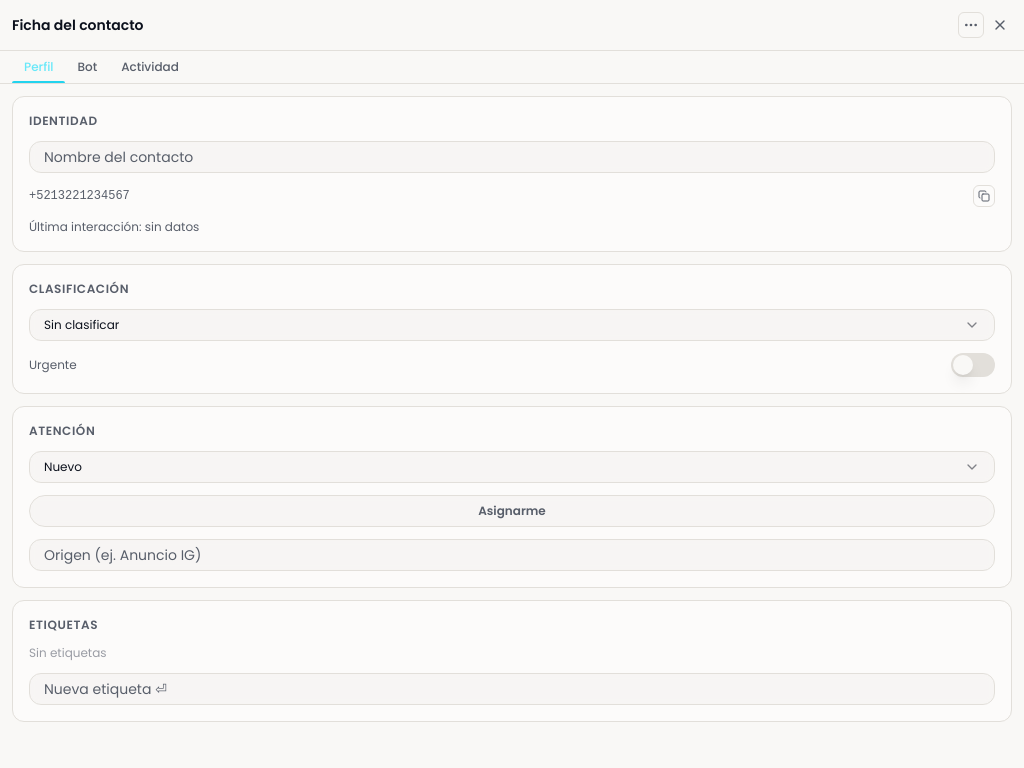
Scenario: ContactPanel — modo revisor (WO-2026-00181) › rol restringido: sin «Guardar contacto», sin ticket y sin nota rápida; la ficha sigue legible
The width and height of the screenshot is (1024, 768).
Click the tab "Actividad".
click(150, 67)  # box x1=109 y1=51 x2=191 y2=83
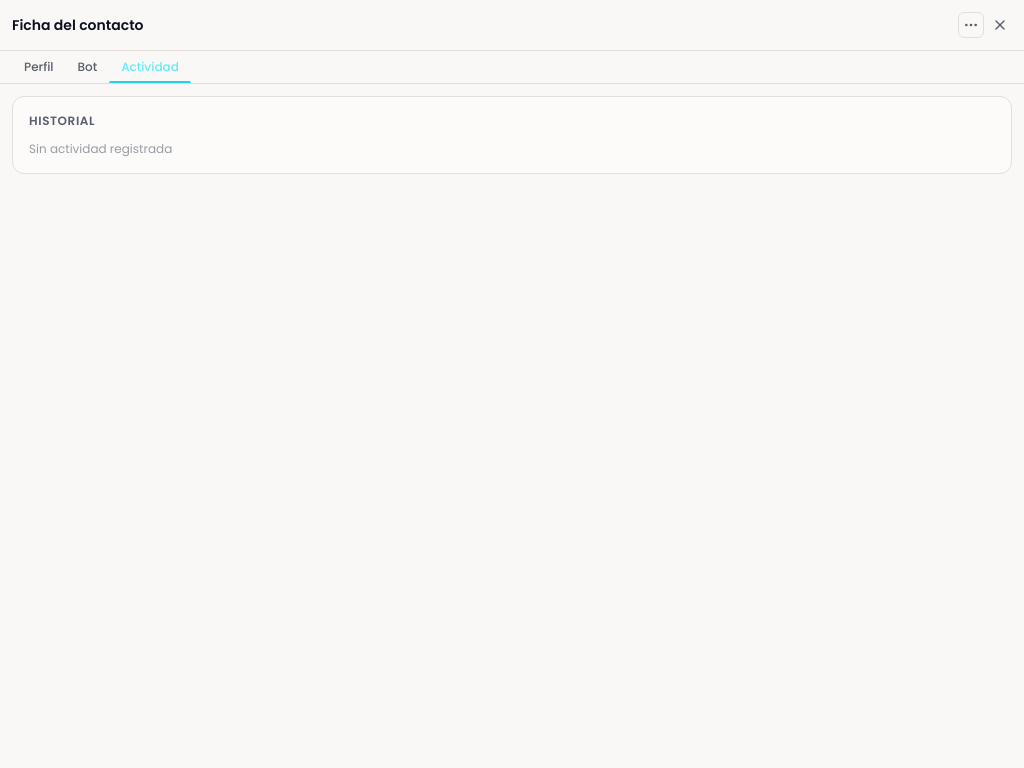
Check: the heading "Historial" is shown, box x1=29 y1=113 x2=95 y2=129
